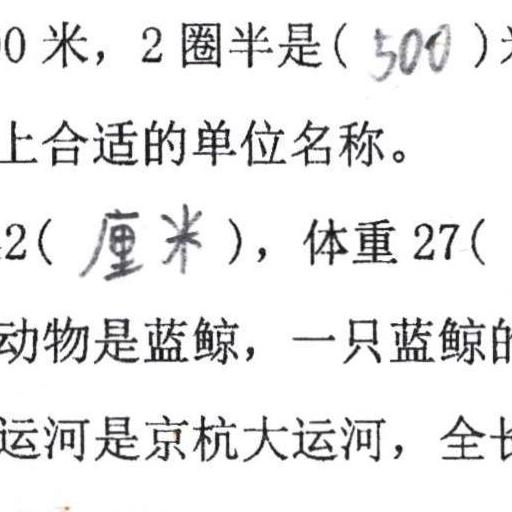ans: (79, 197, 204, 283), (365, 16, 452, 82)
